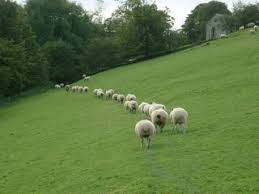sheep: (129, 119, 152, 148), (172, 107, 188, 135), (148, 102, 171, 119), (151, 109, 165, 133), (127, 101, 139, 116), (138, 101, 149, 116), (126, 94, 137, 104), (117, 93, 125, 105), (111, 92, 121, 101), (107, 89, 115, 100), (96, 91, 104, 102), (83, 86, 91, 96), (65, 84, 73, 92), (54, 83, 62, 90), (79, 87, 86, 94), (72, 86, 78, 93), (84, 75, 90, 82)
